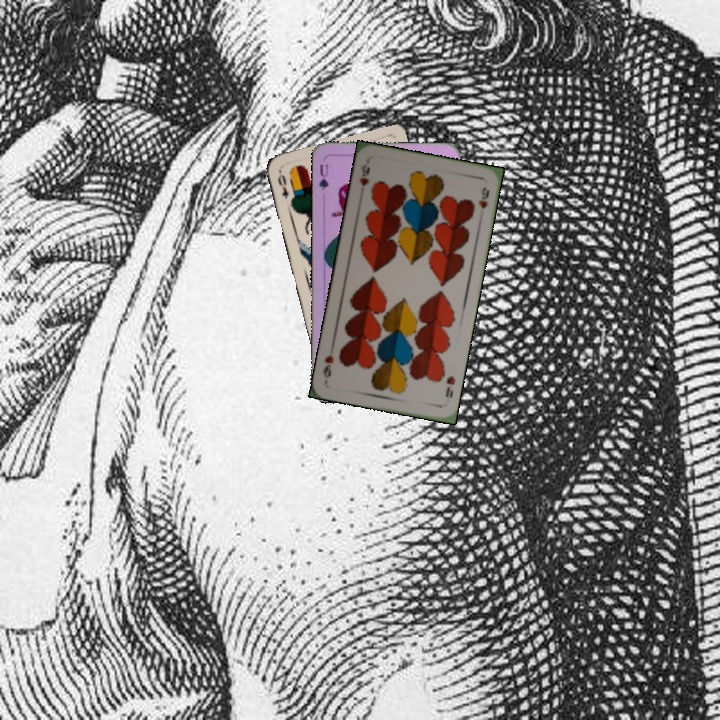EO: (273, 167, 292, 201)
GU: (315, 160, 331, 192)
H9: (355, 160, 373, 188), (441, 372, 458, 400)
